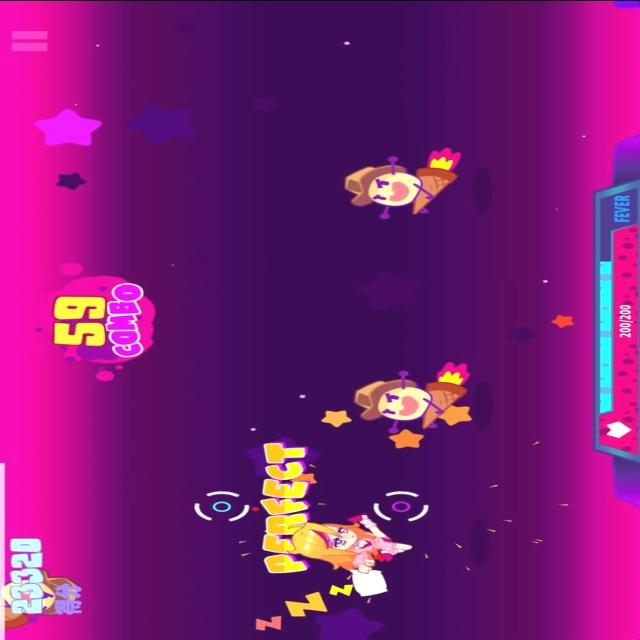qiu: (332, 143, 469, 222), (346, 360, 474, 434)
